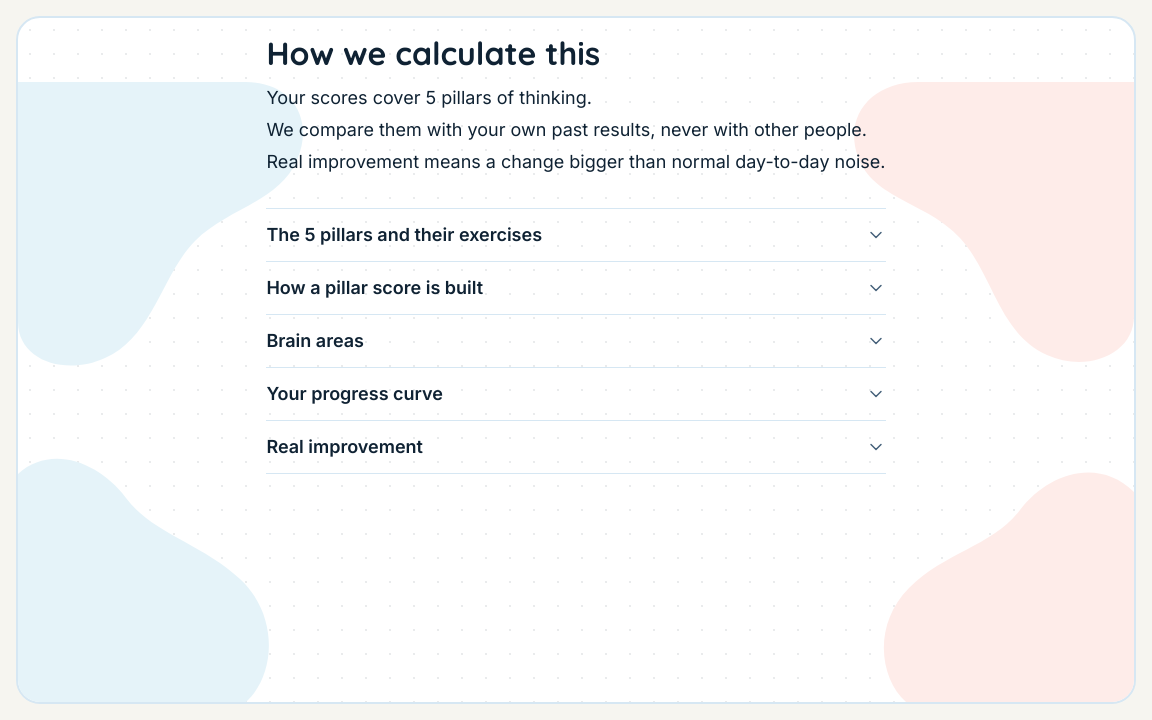
Test: How we calculate this (/methodology) › describes the projection as the curve draws it: one dashed line from session 3, no pause line or decay (R11)
Click the heading "Your progress curve" at (355, 394), box left=266, top=383, right=886, bottom=404
(page scrolled)
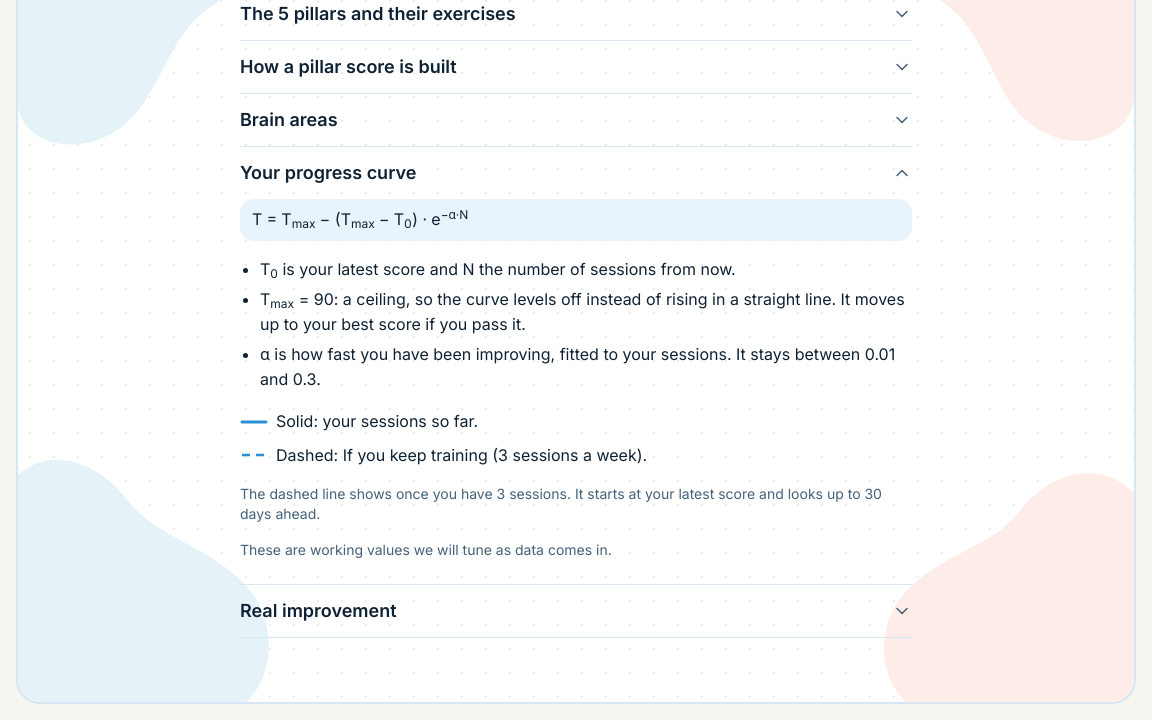
expect the element "Your progress curve" shows "Tmax = 90": met, box left=240, top=147, right=912, bottom=585
expect the element "Your progress curve" shows "3 sessions a week": met, box left=240, top=147, right=912, bottom=585
expect the element "Your progress curve" shows "Dashed: If you keep training": met, box left=276, top=444, right=498, bottom=464
